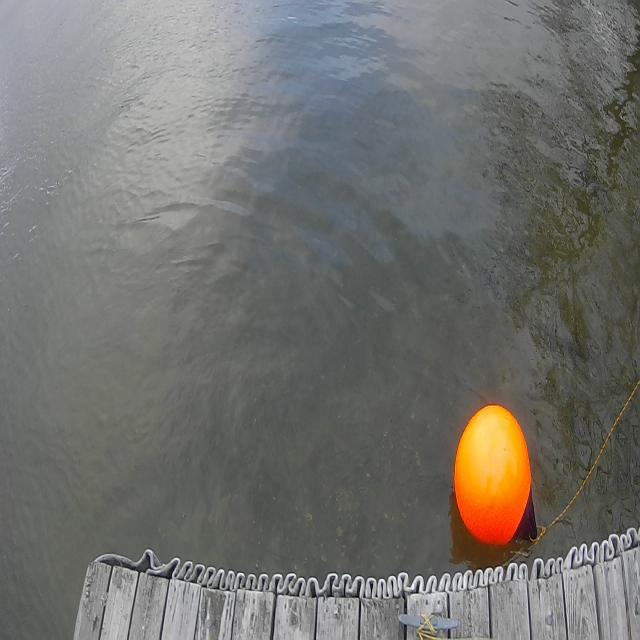Buoy: (448, 384, 552, 560)
